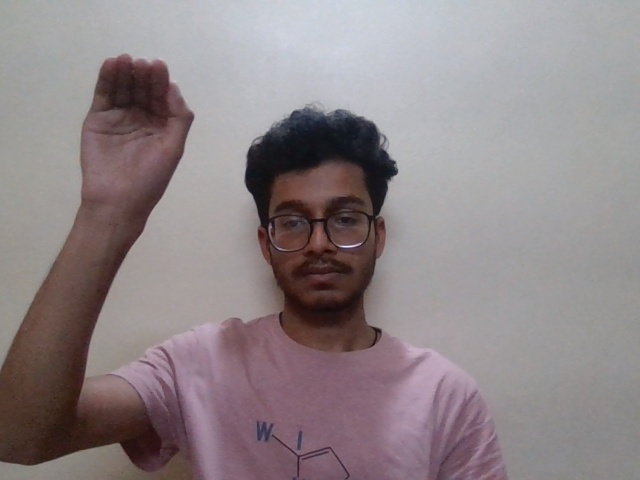sound: (56, 45, 216, 228)
